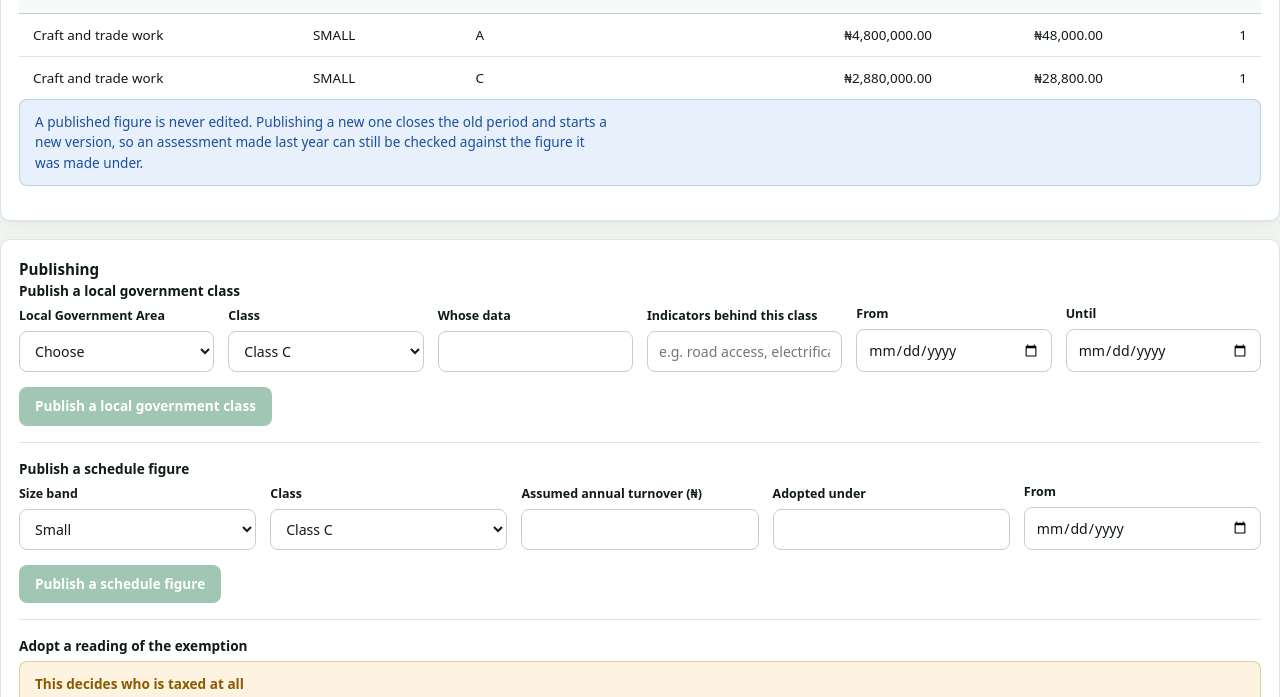
publishing › will not publish a class without its source and indicators
(page scrolled)
Expected: the button "Publish a local government class" is disabled, [19, 387, 272, 426]
Step 1. Select "Wase" in the dropdown labelled "Local Government Area" → (117, 352), box [19, 331, 214, 372]
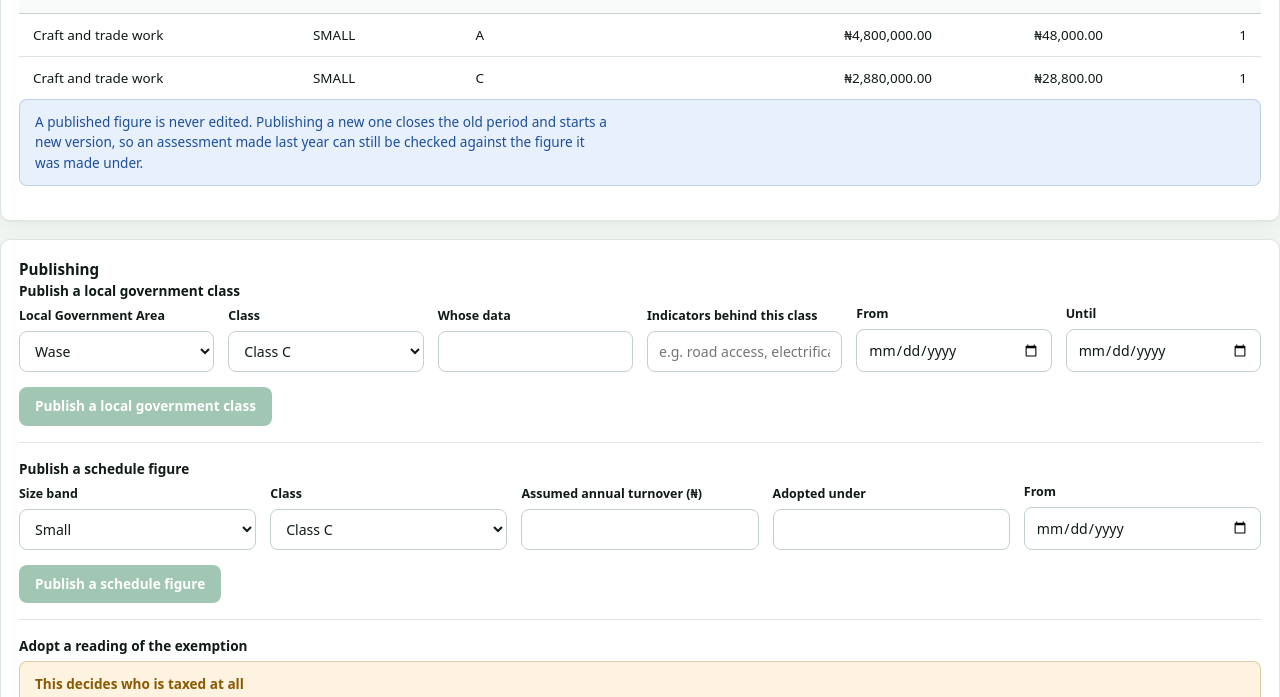
Step 2. Type "National Bureau of Statistics" into the field labelled "Whose data" → (535, 352), box [438, 331, 633, 372]
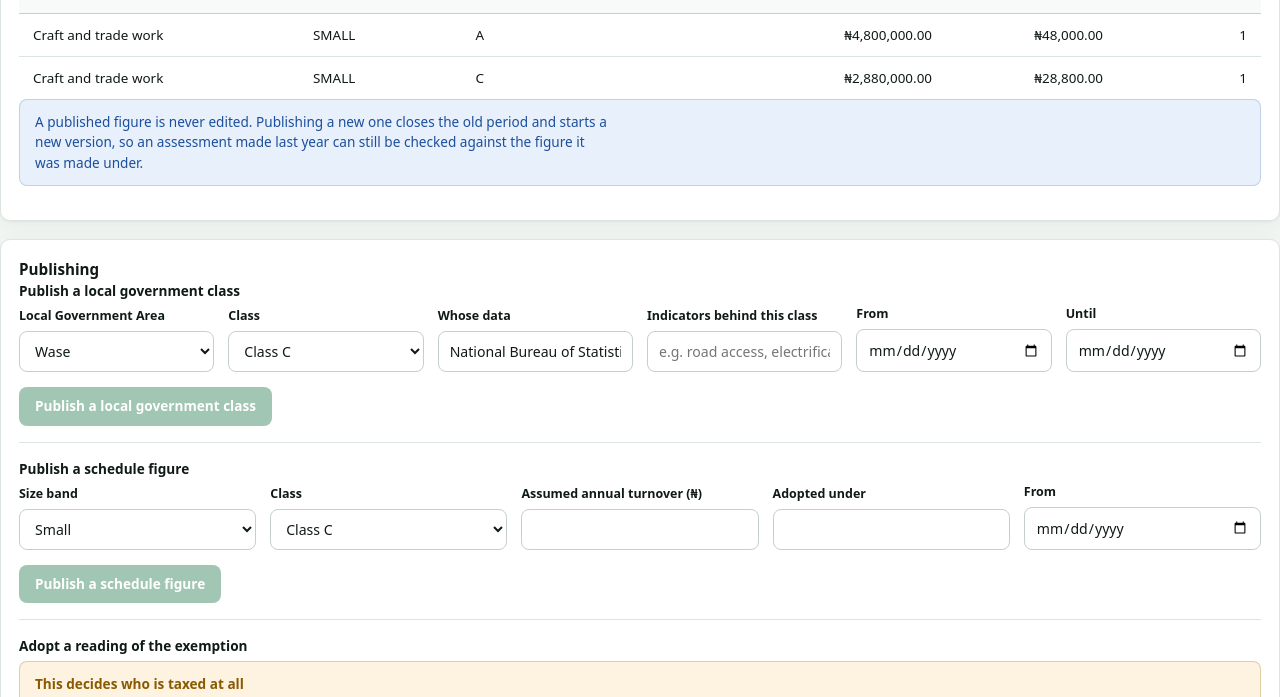
Step 3. Type "road access, electrification" into the field labelled "Indicators behind this class" → (745, 352), box [647, 331, 842, 372]
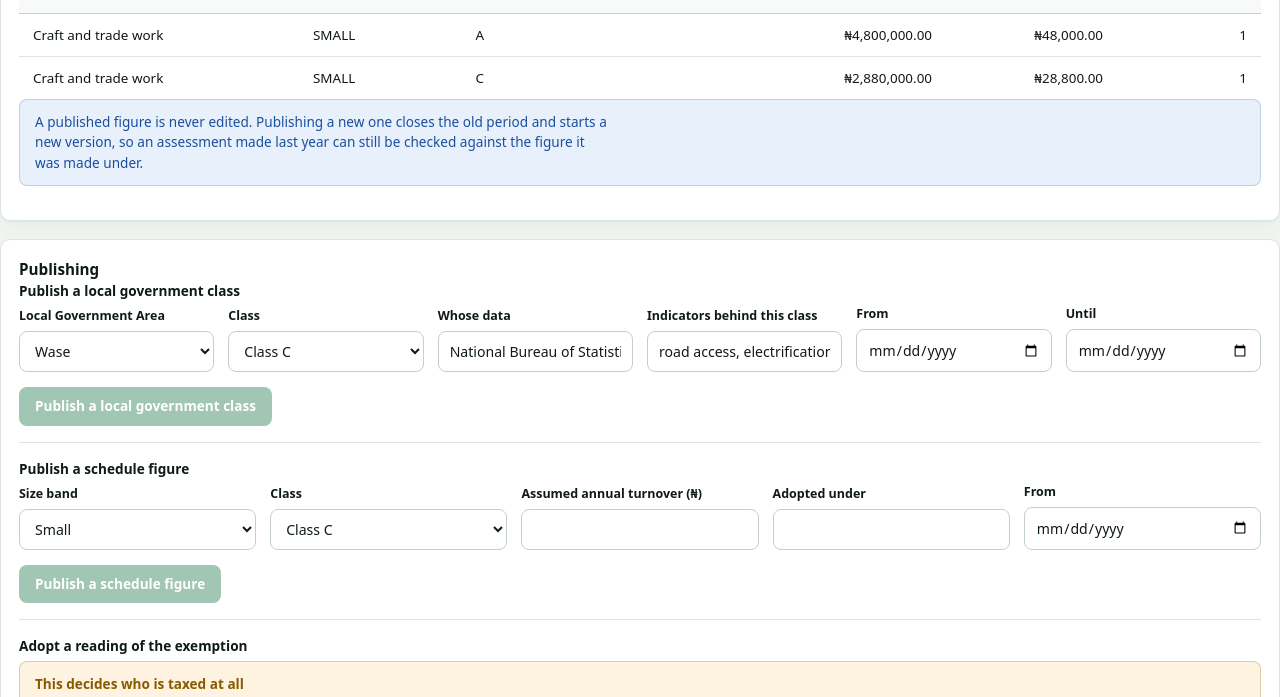
Step 4. Type "2026-01-01" into the date field labelled "From" below "Indicators behind this class" → (954, 351), box [856, 329, 1052, 372]
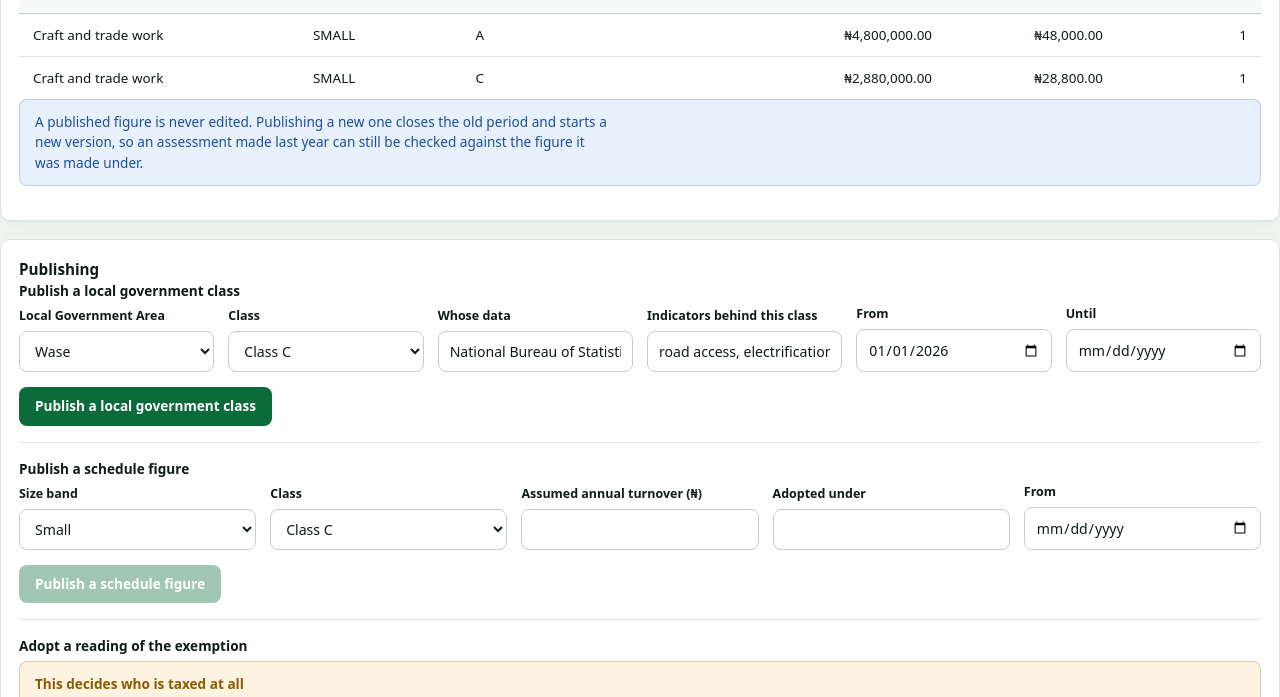
Result: the button "Publish a local government class" is enabled at [19, 387, 272, 426]
